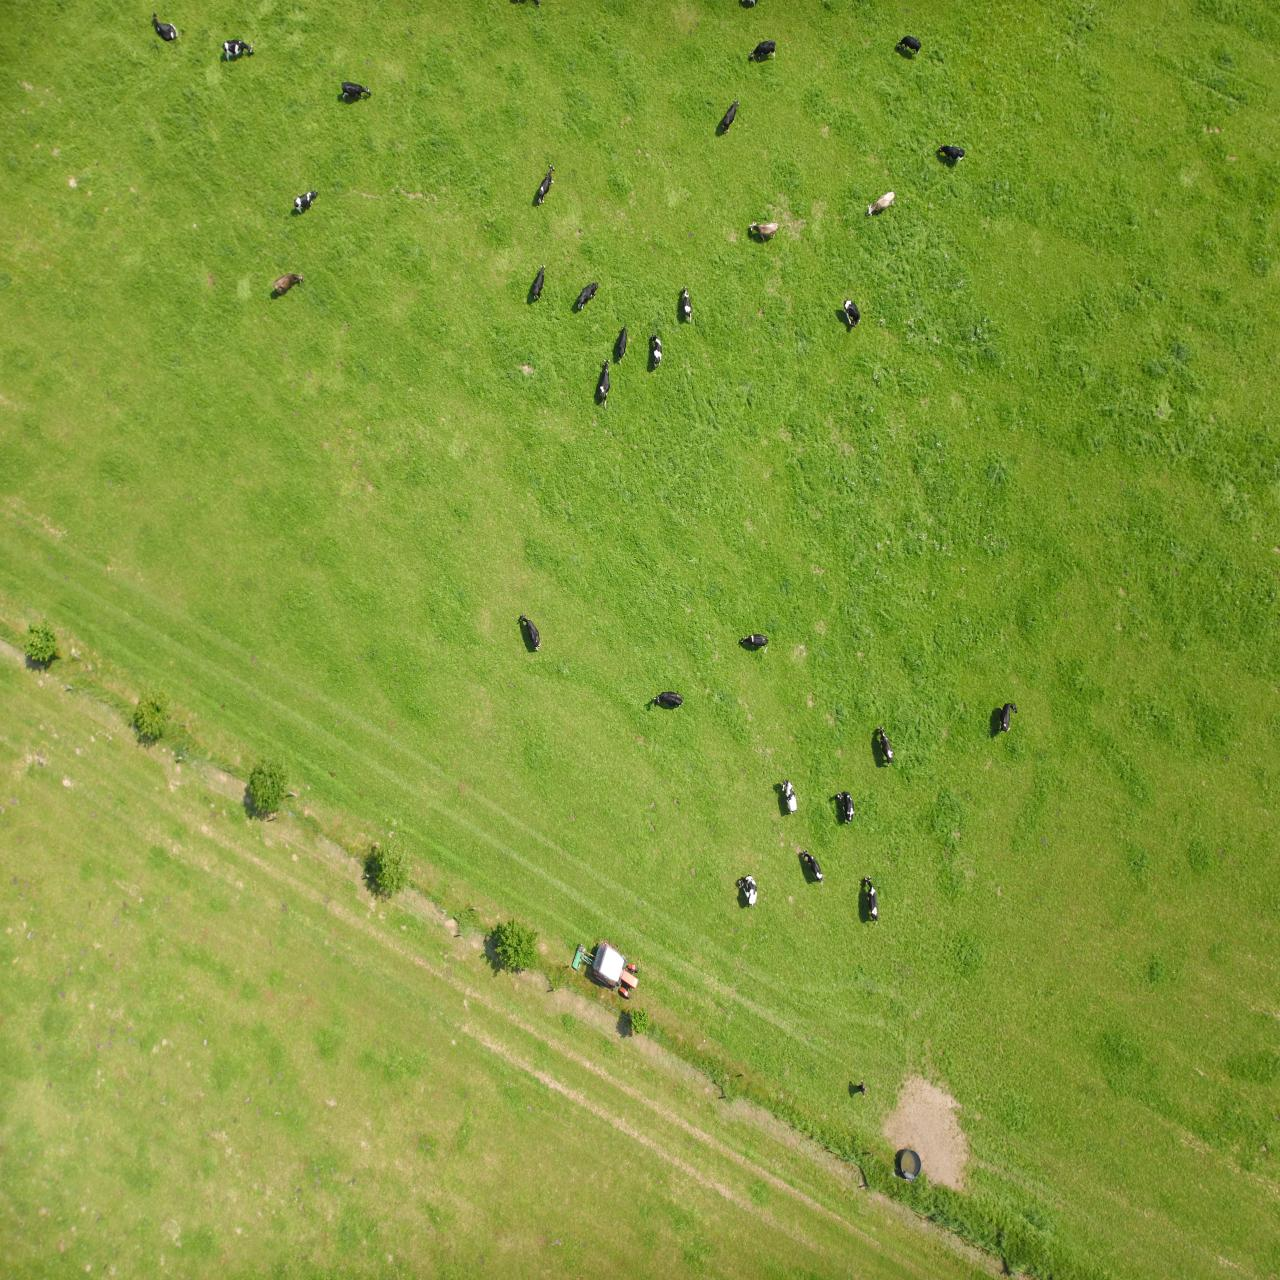cow: (738, 627, 761, 665), (456, 393, 478, 429), (401, 353, 415, 404), (1102, 1239, 1128, 1267), (976, 985, 1006, 1009), (1027, 1219, 1057, 1241), (726, 1075, 742, 1116), (908, 1179, 940, 1200), (386, 513, 402, 553), (386, 1064, 413, 1088), (502, 1039, 531, 1060), (540, 1146, 558, 1180), (523, 374, 542, 406), (669, 871, 681, 921), (482, 465, 498, 501), (504, 1218, 530, 1240), (512, 626, 539, 647), (681, 971, 702, 998), (425, 455, 442, 489), (964, 1065, 986, 1089), (597, 571, 626, 588), (315, 1117, 341, 1137), (263, 547, 279, 578), (418, 952, 436, 980), (358, 1225, 382, 1245), (734, 980, 748, 1014), (587, 958, 599, 994), (618, 912, 629, 946)
